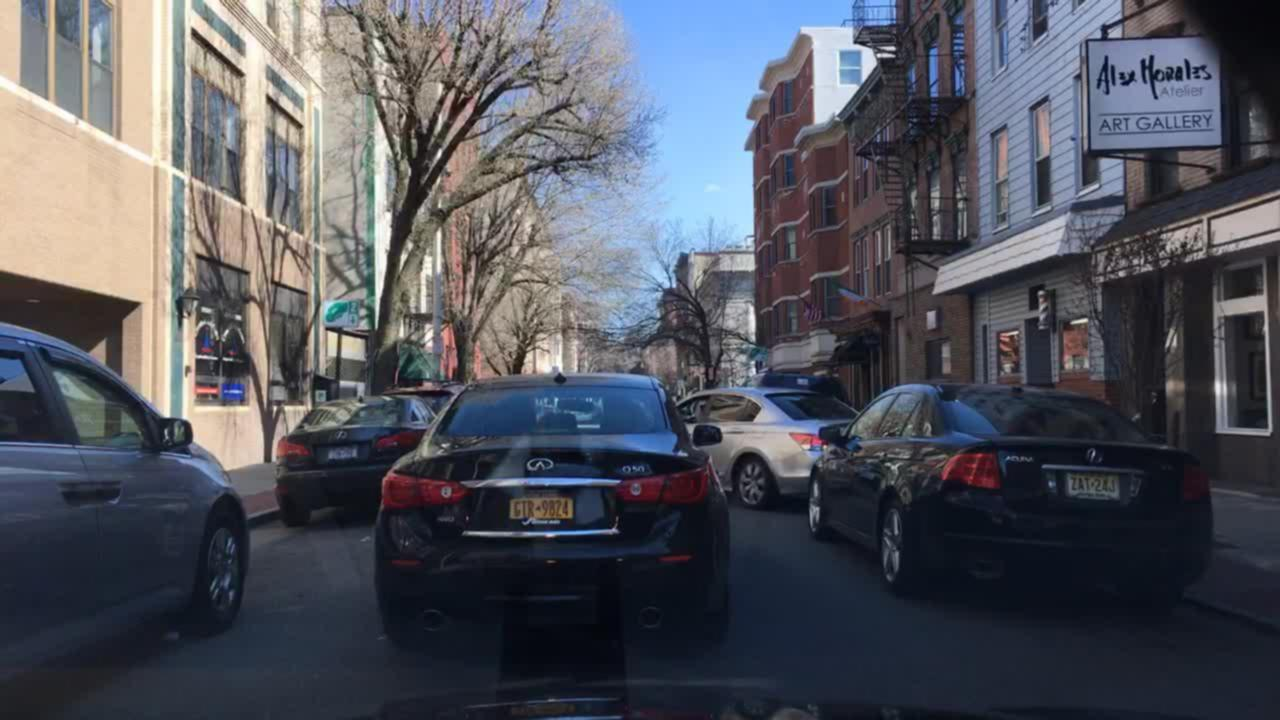Infiniti: (522, 451, 557, 476)
acura: (1080, 444, 1108, 469)
lexus: (331, 428, 351, 442)
